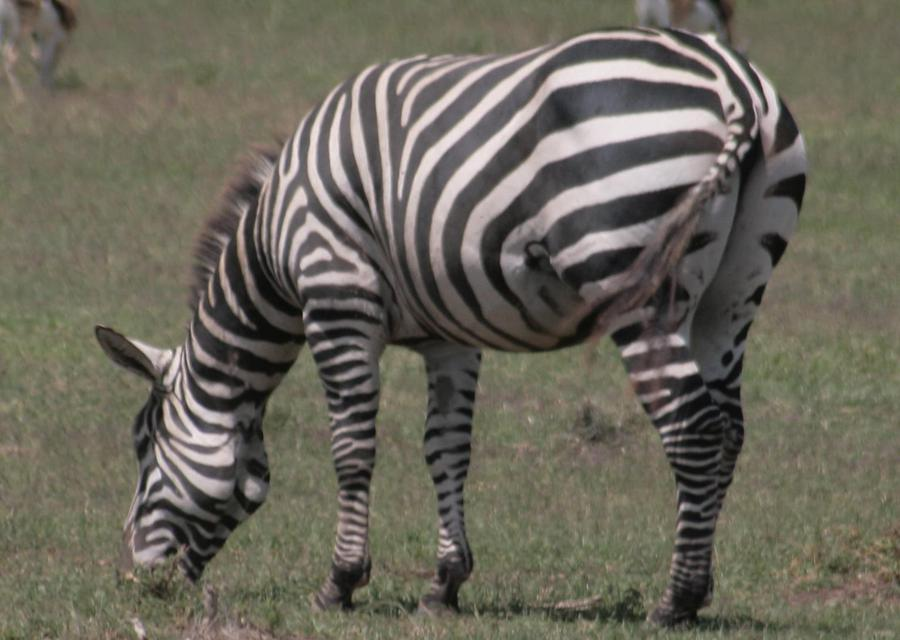zebra_plains: (247, 37, 729, 378)
